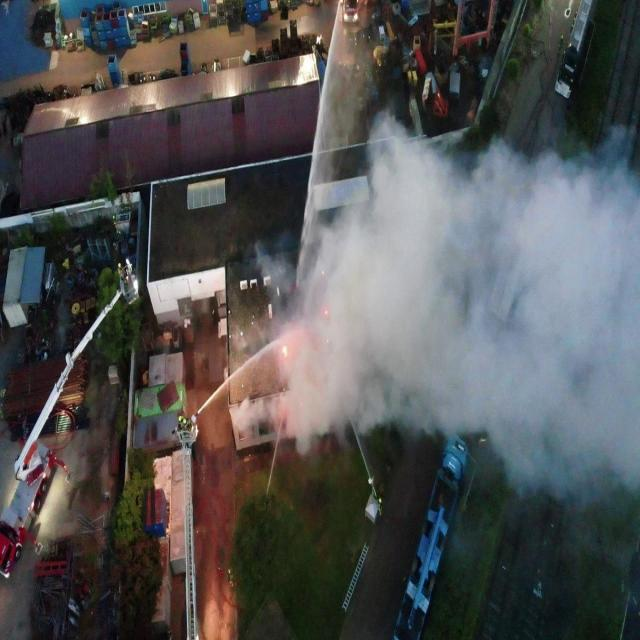Fire: (282, 346, 288, 358), (325, 310, 328, 316)
Smoke: (226, 107, 640, 514)
